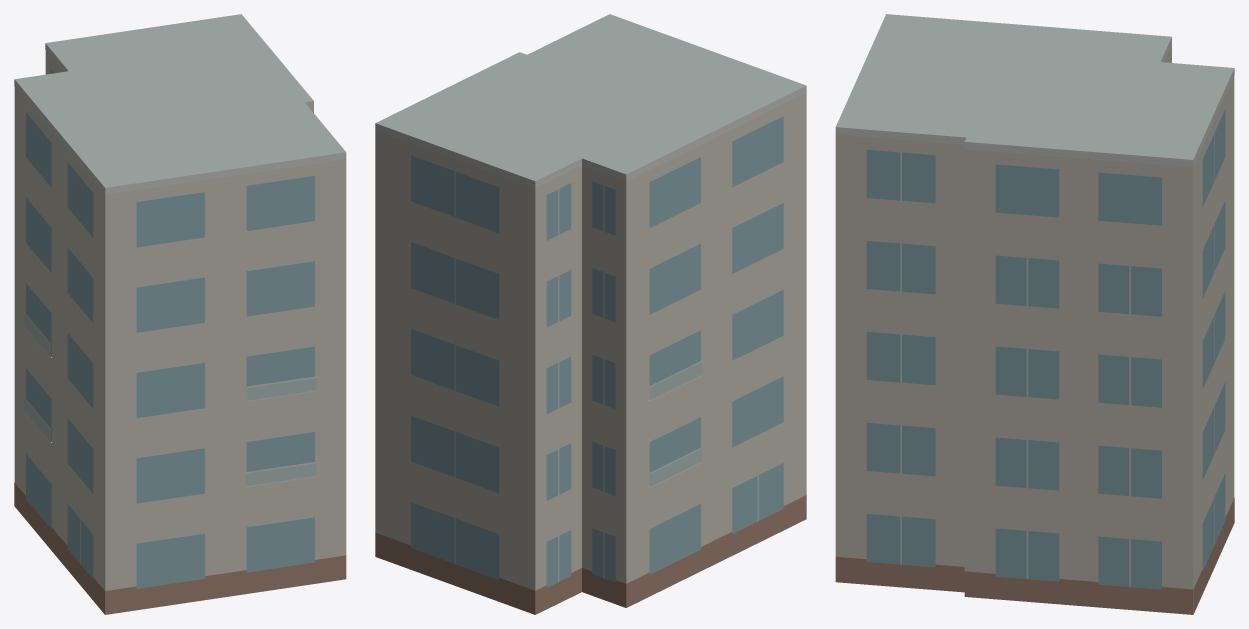
File: survey-upis-32720841.glb
The picture shows the model from 3 angles, left to right: view 1: azimuth 30°, elevation 25°; view 2: azimuth 150°, elevation 25°; view 3: azimuth 270°, elevation 25°; orthographic projection. The views are drawn at different scales.
Parts seen in each view (by area): view 1: survey-upis-32720841.tmp; view 2: survey-upis-32720841.tmp; view 3: survey-upis-32720841.tmp.
Boxes of the visible parts, x1=… form: survey-upis-32720841.tmp: x1=14, y1=14, x2=346, y2=614; survey-upis-32720841.tmp: x1=375, y1=14, x2=806, y2=614; survey-upis-32720841.tmp: x1=835, y1=14, x2=1234, y2=614.
Bounding box in the file's own units: 10.26 × 14.9 × 11.85.
